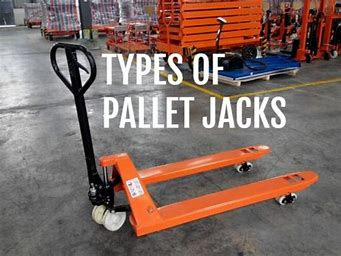Pallet Jack: (49, 41, 321, 236)
